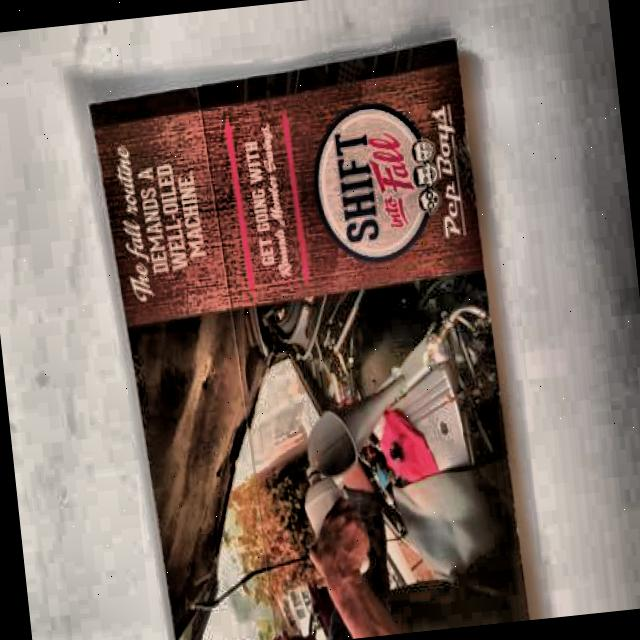paper: (82, 34, 527, 640)
